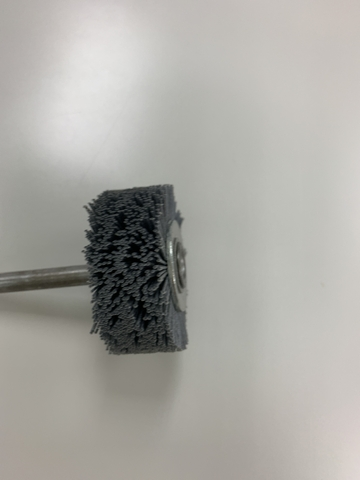Wheel Brush: (28, 179, 196, 370), (1, 186, 191, 354)
